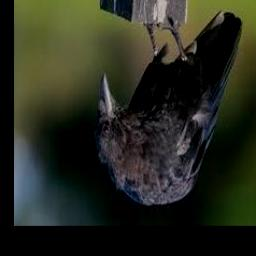Crow: (96, 10, 243, 206)
